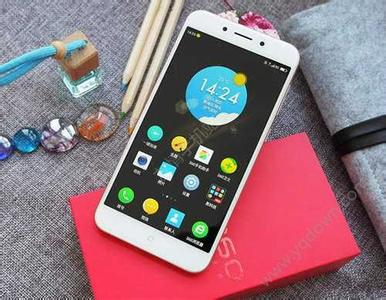phone: (100, 3, 304, 268)
